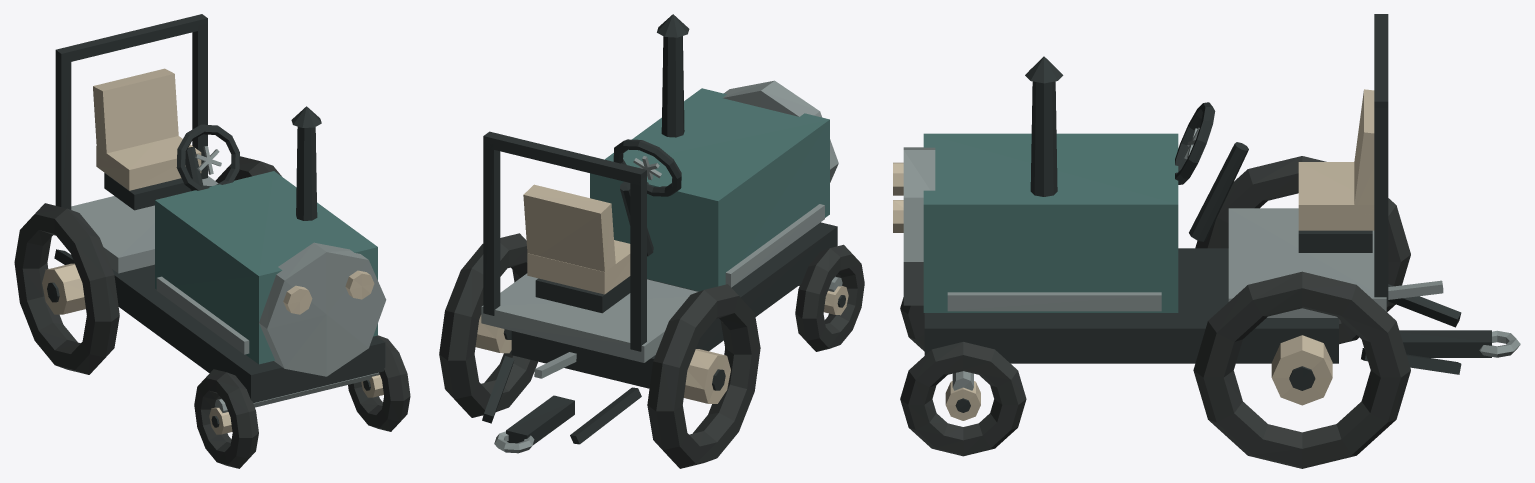
File: tractor.source.glb
3 views of the same model, side by side, from view 1: azimuth 30°, elevation 25°; view 2: azimuth 150°, elevation 25°; view 3: azimuth 270°, elevation 25° (orthographic). The views are drawn at different scales.
Parts seen in each view (by area): view 1: tractor-long-engine-hood-mesh, tractor-tapered-front-grille-mesh, tractor-rear-left-wheel-tire-mesh, tractor-main-chassis-mesh, tractor-operator-seat-back-mesh, tractor-front-left-wheel-tire-mesh, tractor-operator-floor-mesh, tractor-operator-seat-mesh, tractor-front-right-wheel-tire-mesh, tractor-roll-bar-upright--0.55-mesh, tractor-roll-bar-top-mesh, tractor-roll-bar-upright-0.55-mesh (+12 smaller); view 2: tractor-long-engine-hood-mesh, tractor-rear-left-wheel-tire-mesh, tractor-operator-floor-mesh, tractor-main-chassis-mesh, tractor-rear-right-wheel-tire-mesh, tractor-operator-seat-back-mesh, tractor-front-left-wheel-tire-mesh, tractor-roll-bar-upright-0.55-mesh, tractor-roll-bar-upright--0.55-mesh, tractor-roll-bar-top-mesh, tractor-operator-seat-mesh, tractor-slim-exhaust-stack-mesh (+13 smaller); view 3: tractor-long-engine-hood-mesh, tractor-rear-right-wheel-tire-mesh, tractor-main-chassis-mesh, tractor-front-right-wheel-tire-mesh, tractor-operator-floor-mesh, tractor-rear-left-wheel-tire-mesh, tractor-operator-seat-mesh, tractor-engine-side-rail-mesh, tractor-tapered-front-grille-mesh, tractor-rear-right-wheel-hub-mesh, tractor-slim-exhaust-stack-mesh, tractor-roll-bar-upright-0.55-mesh (+12 smaller).
Boxes of the visible parts, box(x1,y1,x2,y2) form: tractor-long-engine-hood-mesh: box(155, 171, 377, 364); tractor-tapered-front-grille-mesh: box(259, 242, 386, 376); tractor-rear-left-wheel-tire-mesh: box(14, 203, 119, 374); tractor-main-chassis-mesh: box(112, 264, 385, 403); tractor-operator-seat-back-mesh: box(93, 68, 178, 160); tractor-front-left-wheel-tire-mesh: box(194, 369, 258, 468); tractor-operator-floor-mesh: box(71, 176, 218, 273); tractor-operator-seat-mesh: box(96, 136, 201, 190); tractor-front-right-wheel-tire-mesh: box(348, 335, 410, 431); tractor-roll-bar-upright--0.55-mesh: box(55, 55, 71, 209); tractor-roll-bar-top-mesh: box(55, 14, 207, 63); tractor-roll-bar-upright-0.55-mesh: box(192, 23, 207, 179); tractor-long-engine-hood-mesh: box(590, 88, 829, 291); tractor-rear-left-wheel-tire-mesh: box(647, 284, 760, 468); tractor-operator-floor-mesh: box(481, 273, 697, 362); tractor-main-chassis-mesh: box(511, 222, 837, 388); tractor-rear-right-wheel-tire-mesh: box(439, 233, 537, 417); tractor-operator-seat-back-mesh: box(523, 184, 615, 281); tractor-front-left-wheel-tire-mesh: box(795, 244, 864, 351); tractor-roll-bar-upright-0.55-mesh: box(483, 141, 500, 315); tractor-roll-bar-upright--0.55-mesh: box(630, 176, 646, 351); tractor-roll-bar-top-mesh: box(483, 131, 646, 185); tractor-operator-seat-mesh: box(527, 240, 630, 294); tractor-slim-exhaust-stack-mesh: box(661, 36, 684, 137); tractor-long-engine-hood-mesh: box(923, 133, 1178, 312); tractor-rear-right-wheel-tire-mesh: box(1193, 271, 1410, 468); tractor-main-chassis-mesh: box(924, 248, 1338, 363); tractor-front-right-wheel-tire-mesh: box(900, 342, 1026, 456); tractor-operator-floor-mesh: box(1228, 208, 1386, 317); tractor-rear-left-wheel-tire-mesh: box(1195, 156, 1410, 344); tractor-operator-seat-mesh: box(1298, 162, 1374, 230); tractor-engine-side-rail-mesh: box(947, 292, 1161, 311); tractor-tapered-front-grille-mesh: box(903, 147, 935, 305); tractor-rear-right-wheel-hub-mesh: box(1271, 335, 1332, 405); tractor-slim-exhaust-stack-mesh: box(1030, 81, 1057, 196); tractor-roll-bar-upright-0.55-mesh: box(1374, 108, 1388, 303).
Bounding box in the file's own units: 1.8 × 2.37 × 3.58.
